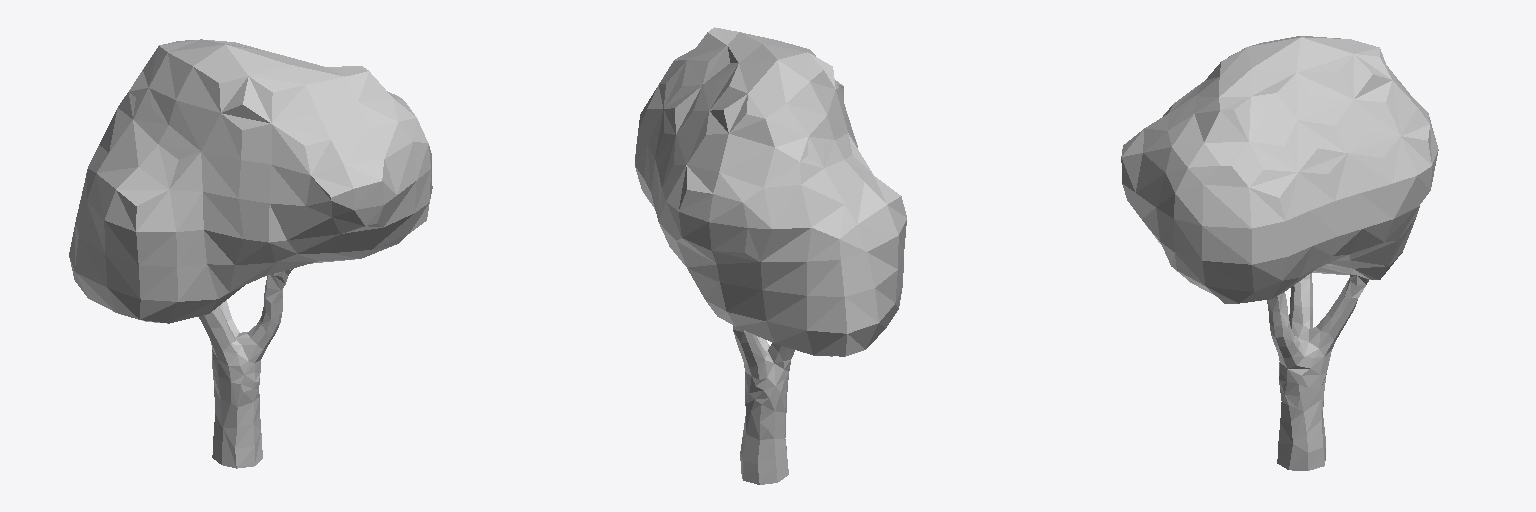
File: tree5.obj
The picture shows the model from 3 angles: view 1: azimuth 30°, elevation 25°; view 2: azimuth 150°, elevation 25°; view 3: azimuth 270°, elevation 25°; orthographic projection.
Parts seen in each view (by area): view 1: Tree1_Plane.001; view 2: Tree1_Plane.001; view 3: Tree1_Plane.001.
Boxes of the visible parts, <box> form: Tree1_Plane.001: <box>69,39,432,468</box>; Tree1_Plane.001: <box>635,27,906,484</box>; Tree1_Plane.001: <box>1121,36,1438,470</box>.
Size of the model in its own units: 7.34 by 10.02 by 6.9.